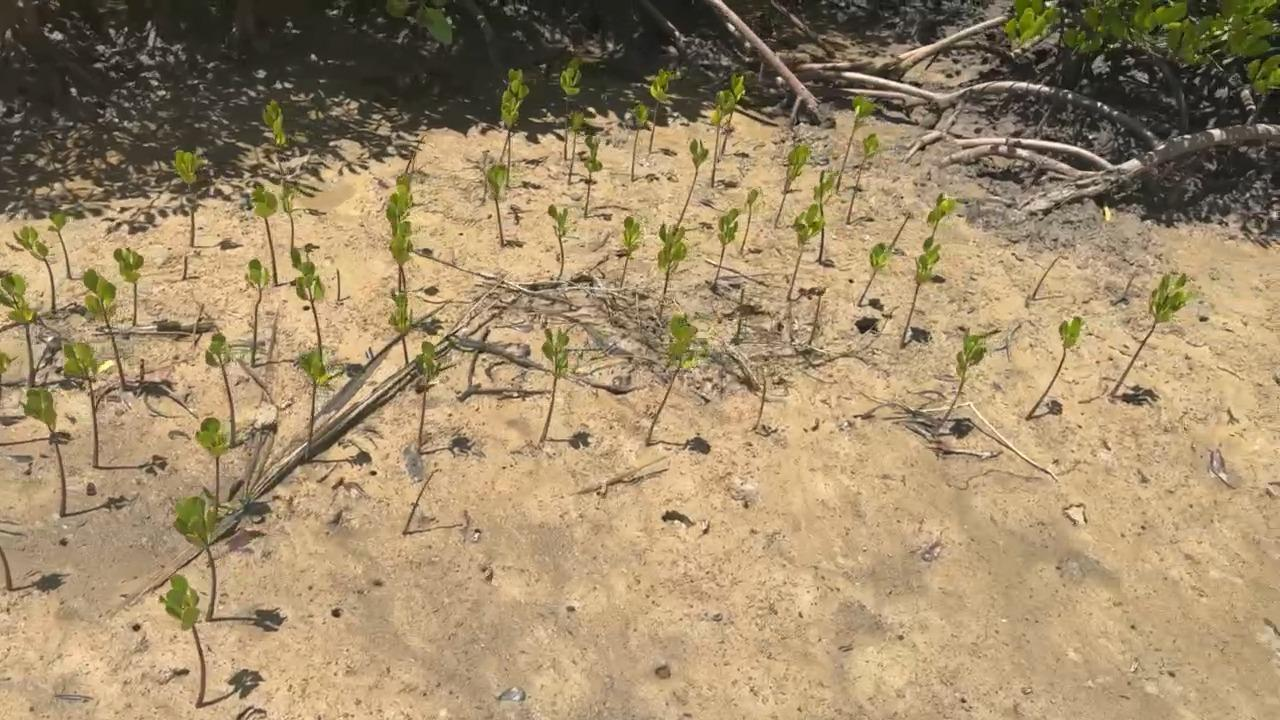Tree: (1108, 272, 1188, 394), (646, 314, 698, 446), (160, 573, 206, 709), (1024, 315, 1082, 420), (20, 388, 67, 516), (173, 496, 217, 622), (83, 267, 126, 390), (60, 341, 99, 467), (900, 235, 941, 349), (0, 272, 36, 389), (786, 203, 826, 300), (943, 334, 988, 420), (204, 331, 237, 448), (836, 95, 876, 191), (170, 148, 209, 246), (12, 224, 56, 310), (289, 245, 325, 346), (297, 348, 329, 460), (541, 326, 570, 440), (845, 133, 879, 224), (244, 257, 271, 369), (498, 67, 530, 159), (194, 417, 227, 506), (678, 137, 710, 226), (251, 185, 279, 285), (775, 143, 808, 227), (414, 340, 437, 453), (113, 245, 144, 326), (647, 69, 676, 153), (711, 89, 735, 189), (559, 56, 581, 161), (383, 193, 407, 289), (656, 221, 687, 291), (812, 170, 834, 264), (402, 470, 434, 534), (857, 242, 888, 307), (720, 74, 745, 154), (260, 99, 285, 173), (387, 293, 413, 364), (387, 221, 413, 292), (487, 163, 509, 246), (626, 102, 649, 181), (45, 213, 72, 277), (716, 207, 739, 280), (583, 135, 603, 216), (619, 217, 641, 286), (501, 90, 520, 166), (926, 192, 956, 238), (1033, 255, 1062, 298), (567, 112, 584, 185), (547, 204, 569, 258), (739, 189, 758, 250), (279, 184, 294, 243), (394, 175, 411, 219), (809, 293, 822, 344), (889, 216, 909, 245), (0, 545, 13, 589), (737, 289, 745, 334), (759, 373, 767, 410), (137, 356, 146, 385), (334, 267, 341, 300), (181, 255, 187, 278)
